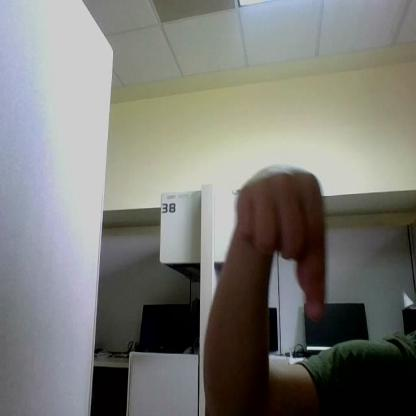Q: (237, 165, 325, 318)
